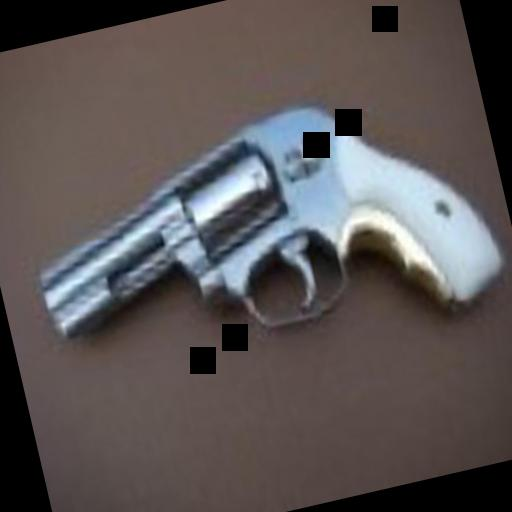Handgun: (14, 68, 512, 428)
